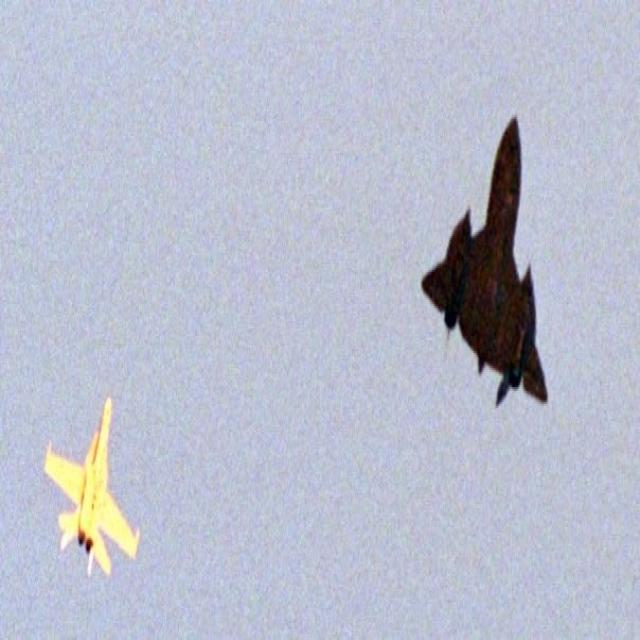MIL_Plane: (420, 113, 548, 410), (47, 390, 136, 580)
